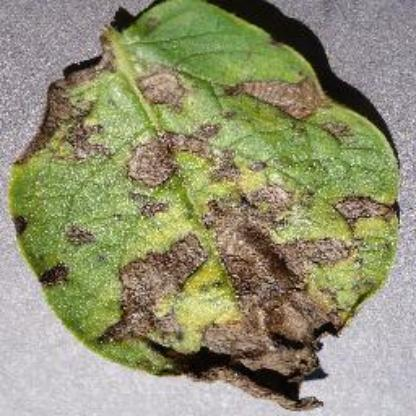Early-Blight: (7, 0, 408, 406)
